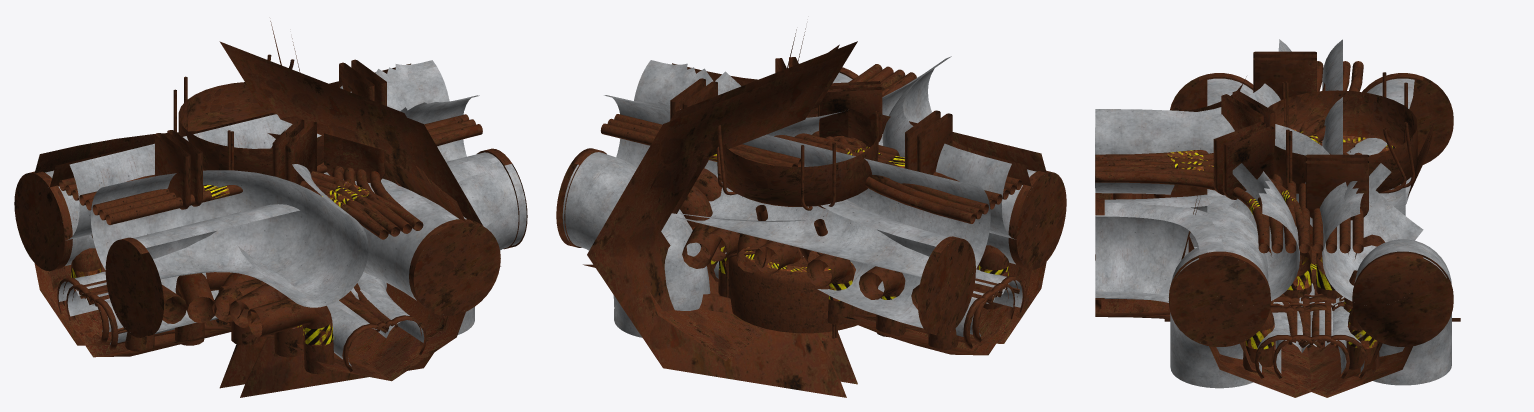
Rendered from ship_vent_parts.fbx.
3 views of the same model, side by side, from view 1: azimuth 30°, elevation 25°; view 2: azimuth 150°, elevation 25°; view 3: azimuth 270°, elevation 25° (orthographic).
Parts seen in each view (by area): view 1: HallwayL_LOD0, HallwayS_LOD0, HallwayT_right_LOD0, HallwayL_flipped_LOD0, HallwayT_left_LOD0, HallwayT_base_LOD0; view 2: HallwayT_left_LOD0, HallwayS_LOD0, HallwayL_LOD0, HallwayT_base_LOD0, HallwayT_end_LOD0, HallwayT_right_LOD0, HallwayL_flipped_LOD0; view 3: HallwayL_flipped_LOD0, HallwayT_left_LOD0, HallwayS_LOD0, HallwayL_LOD0, HallwayT_base_LOD0, HallwayT_right_LOD0, HallwayT_end_LOD0.
Boxes of the visible parts, box(x1,y1,x2,y2) form: HallwayL_LOD0: box(14, 119, 500, 380); HallwayS_LOD0: box(49, 113, 527, 357); HallwayT_right_LOD0: box(240, 38, 526, 397); HallwayL_flipped_LOD0: box(206, 66, 511, 380); HallwayT_left_LOD0: box(219, 21, 479, 388); HallwayT_base_LOD0: box(173, 54, 323, 325); HallwayT_left_LOD0: box(556, 29, 846, 397); HallwayS_LOD0: box(612, 63, 1066, 349); HallwayL_LOD0: box(817, 44, 1031, 355); HallwayT_base_LOD0: box(716, 107, 878, 338); HallwayT_end_LOD0: box(649, 160, 768, 360); HallwayT_right_LOD0: box(604, 28, 857, 384); HallwayL_flipped_LOD0: box(614, 45, 951, 281); HallwayL_flipped_LOD0: box(1095, 109, 1382, 397); HallwayT_left_LOD0: box(1194, 152, 1453, 397); HallwayS_LOD0: box(1168, 39, 1405, 397); HallwayL_LOD0: box(1095, 39, 1453, 316); HallwayT_base_LOD0: box(1268, 72, 1417, 283); HallwayT_right_LOD0: box(1170, 163, 1423, 388); HallwayT_end_LOD0: box(1164, 234, 1460, 321).
Size of what is drawn, in the model's own units: 200 by 179 by 197.
